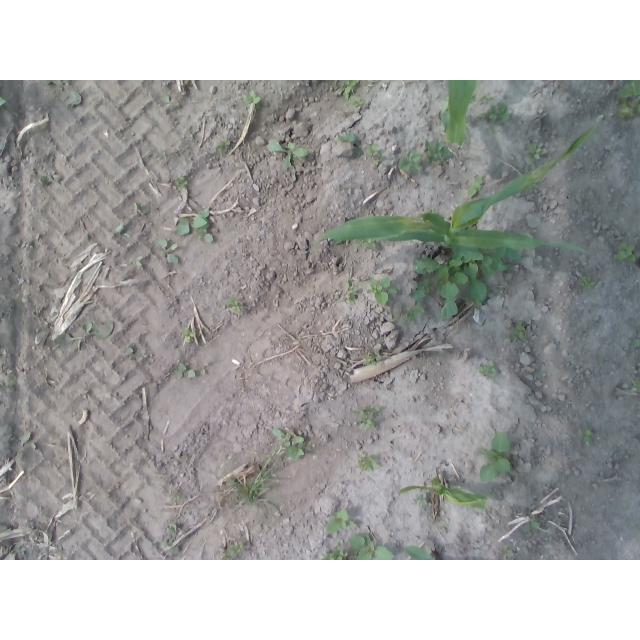Maize: (310, 125, 597, 258), (399, 476, 488, 512), (439, 80, 477, 146), (403, 544, 442, 561)
Weeds: (408, 246, 524, 322), (477, 432, 512, 483), (55, 321, 114, 348), (175, 207, 214, 243), (266, 139, 308, 170), (348, 534, 393, 560), (476, 101, 510, 135), (272, 427, 305, 461), (614, 80, 640, 118), (366, 276, 398, 306), (423, 140, 454, 166), (324, 510, 356, 534), (153, 237, 180, 265), (352, 405, 381, 431), (392, 303, 425, 325), (337, 131, 363, 157), (398, 150, 423, 174), (163, 524, 180, 557), (615, 241, 638, 263), (169, 362, 195, 381), (334, 81, 359, 100), (366, 143, 387, 165), (475, 360, 497, 381), (506, 319, 526, 342), (319, 545, 349, 560), (15, 430, 31, 458), (525, 142, 547, 162), (354, 454, 379, 471), (221, 542, 244, 560), (467, 175, 485, 198), (362, 349, 382, 366), (242, 88, 263, 104), (122, 348, 146, 361), (577, 274, 595, 291), (163, 93, 181, 110), (346, 279, 358, 304), (180, 326, 197, 343), (227, 297, 244, 314), (524, 516, 541, 533), (356, 238, 378, 251), (112, 225, 132, 239), (579, 424, 593, 444), (67, 90, 82, 108), (214, 139, 230, 154), (413, 493, 429, 507), (134, 202, 150, 215), (127, 255, 144, 267), (173, 177, 188, 190), (349, 96, 364, 108), (475, 93, 493, 103), (4, 378, 16, 392), (630, 330, 640, 346), (501, 544, 511, 556), (632, 378, 640, 392), (171, 491, 182, 501), (424, 208, 437, 214), (40, 176, 48, 185), (0, 96, 6, 106), (599, 355, 605, 362)
